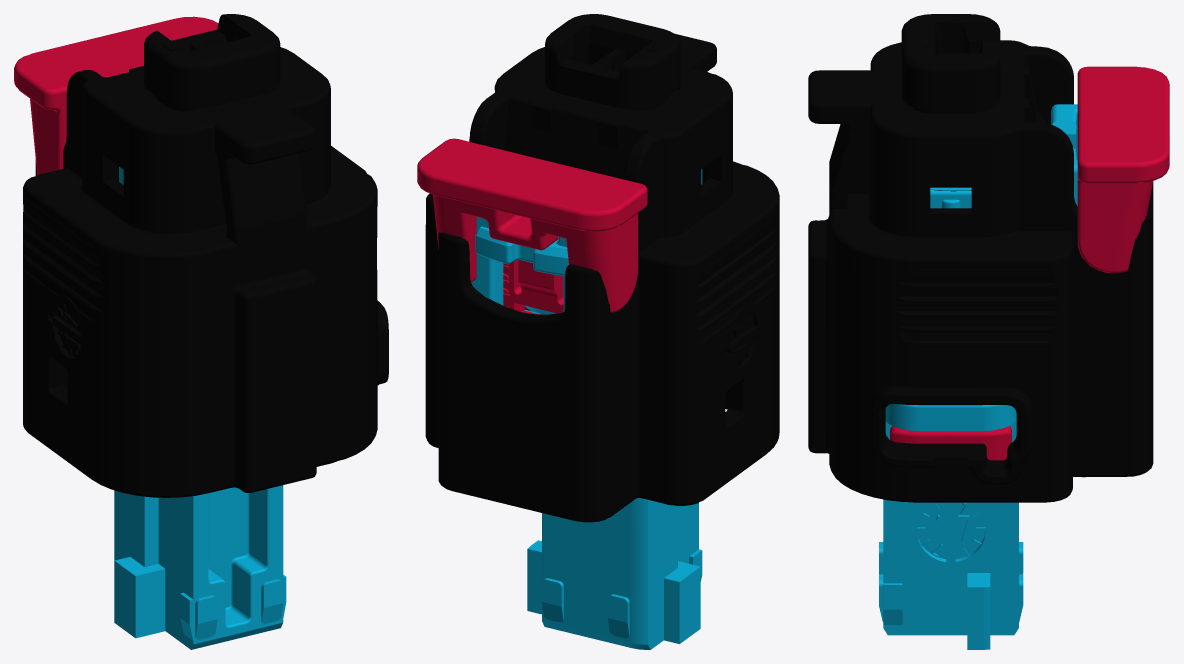
The picture shows the model from 3 angles, left to right: view 1: azimuth 30°, elevation 25°; view 2: azimuth 150°, elevation 25°; view 3: azimuth 270°, elevation 25°; orthographic projection.
Parts seen in each view (by area): view 1: Postions, Blue_1, Red; view 2: Postions, Red, Blue_1, Blue; view 3: Postions, Blue_1, Red, Red_1, Blue.
Boxes of the visible parts, x1,y1,x2,y2 form: Postions: [23, 14, 388, 497]; Blue_1: [114, 166, 286, 649]; Red: [14, 16, 218, 175]; Postions: [425, 14, 779, 522]; Red: [417, 138, 647, 314]; Blue_1: [525, 169, 702, 649]; Blue: [471, 217, 568, 314]; Postions: [808, 14, 1153, 502]; Blue_1: [879, 187, 1023, 649]; Red: [1077, 66, 1169, 477]; Red_1: [890, 405, 1011, 460]; Blue: [1051, 104, 1077, 206].
Bounding box in the file's own units: 324 × 626 × 353.
